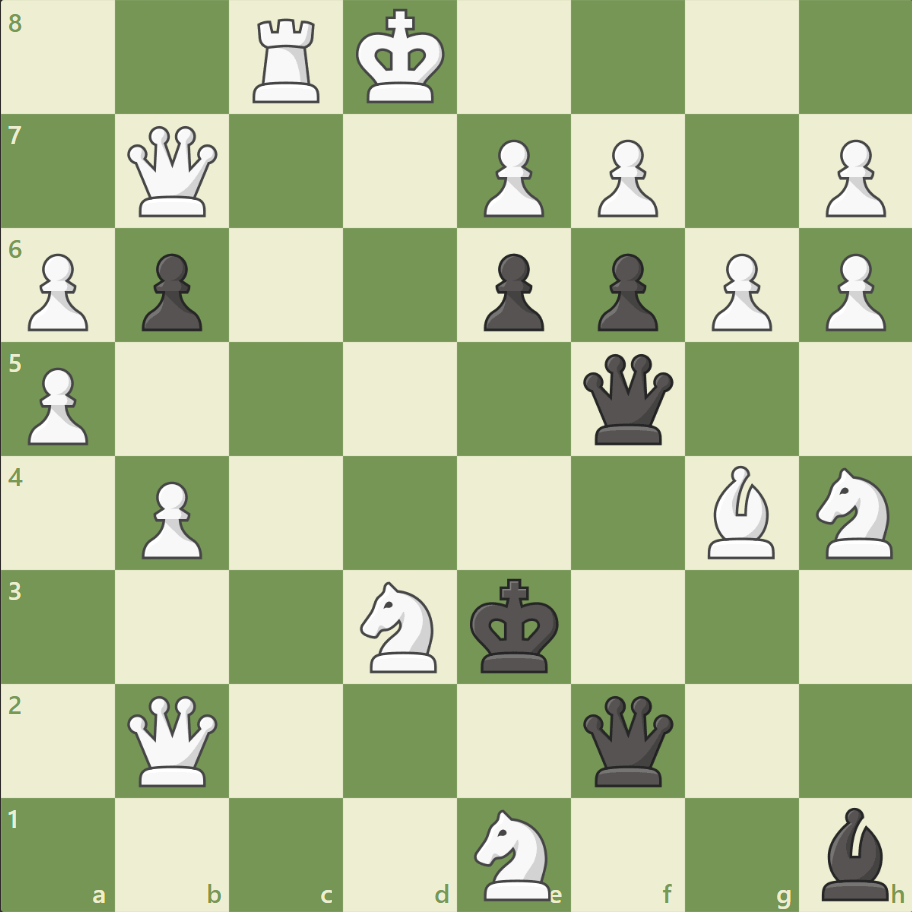B: (698, 460, 782, 563)
K: (351, 4, 451, 112)
N: (351, 575, 449, 677), (806, 461, 903, 564), (465, 802, 562, 904)
P: (474, 132, 549, 223), (20, 246, 95, 337), (701, 246, 776, 337), (20, 359, 95, 450), (133, 473, 208, 564), (588, 132, 662, 223), (815, 132, 889, 223), (815, 246, 889, 337)
Q: (124, 122, 223, 222), (124, 690, 223, 789)
R: (246, 12, 329, 109)
b: (812, 801, 896, 904)
k: (465, 571, 565, 679)
p: (133, 246, 208, 337), (474, 246, 549, 337), (588, 246, 662, 337)
q: (578, 349, 677, 449), (578, 690, 677, 789)
